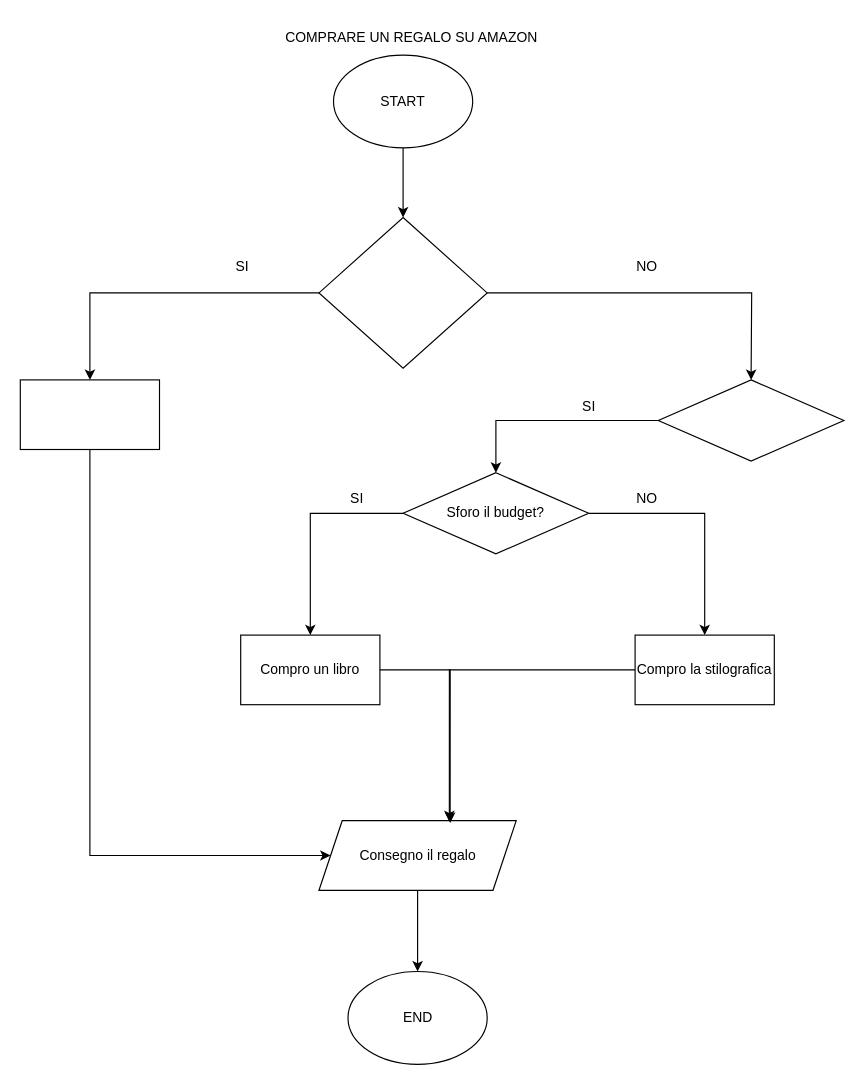
This 864x1085 diagram has some shape labels left out. Each missing label, with the box of its shape:
Compro la lampada: (19, 379, 160, 449)
Scelgo la stilografica?: (657, 379, 844, 461)
Scelgo una lampada particolare?: (318, 216, 487, 368)
